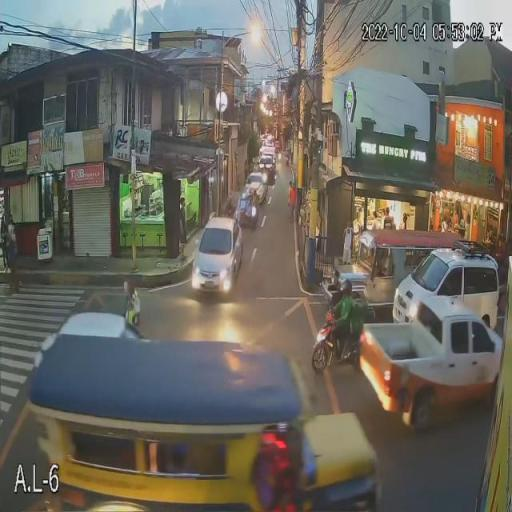helmet: (342, 279, 353, 298)
motorcycle: (312, 312, 361, 374)
rider: (339, 283, 351, 342)
